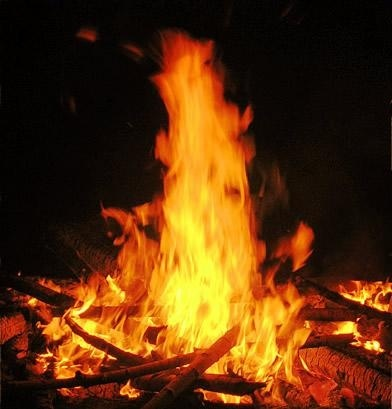fire: (87, 38, 335, 388)
